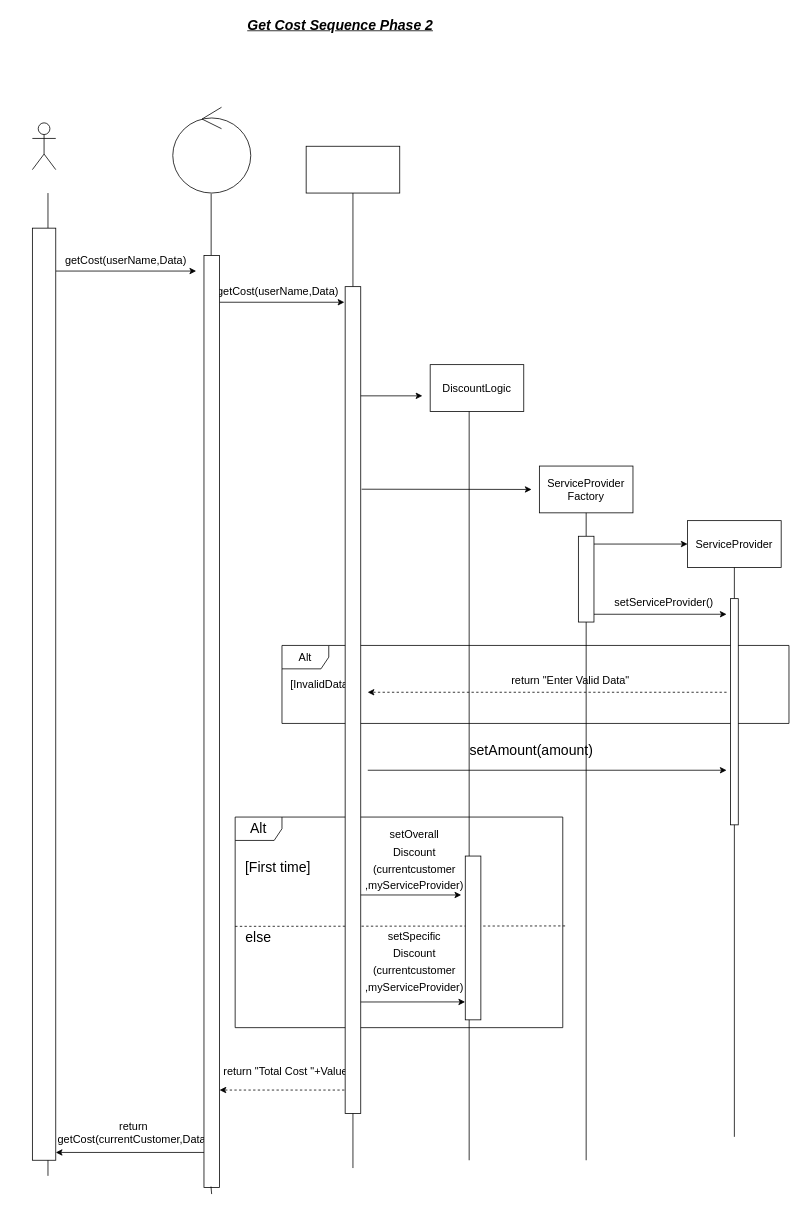
The diagram is 803 pixels wide and 1208 high, and some of its shapes have lost their labels. The shapes that lost their labels are listed below. From the top down, each one's centre as x and y in pixels, then its label:
At [44,146]: "Customer".
At [211,149]: "Payment Controller".
At [352,169]: "PaymentBSL".
